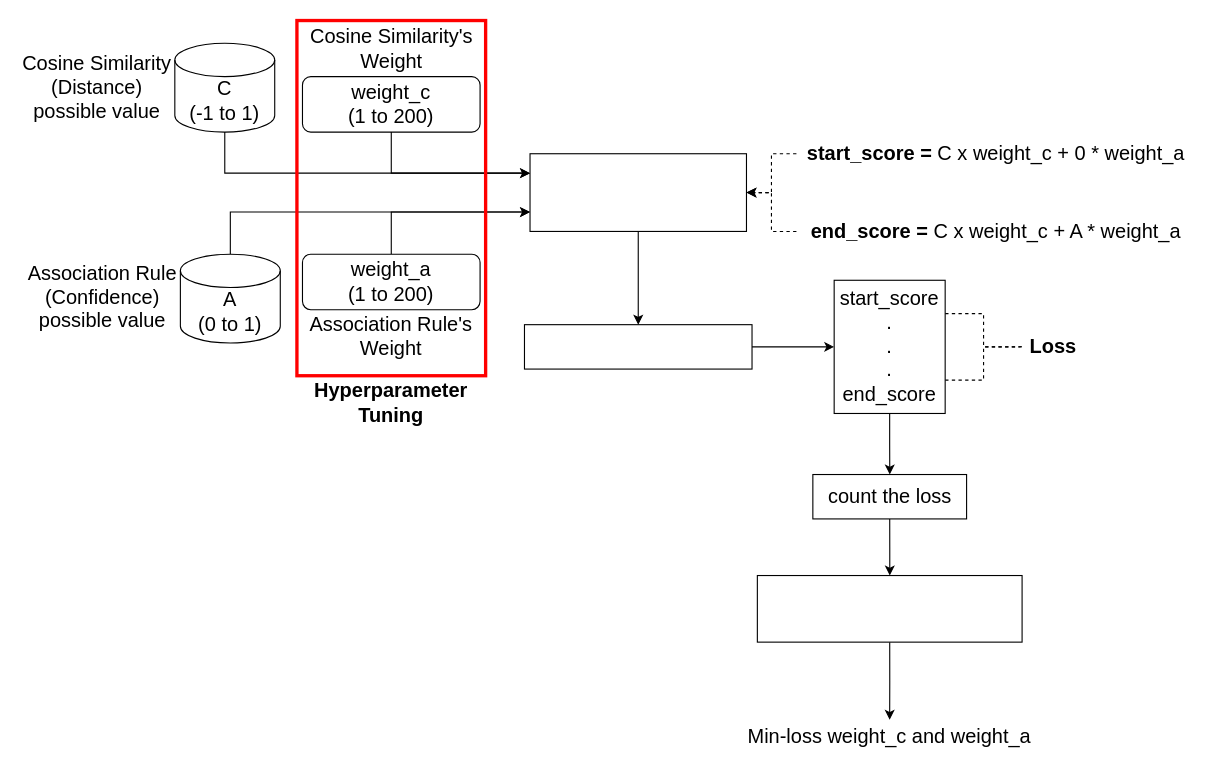
The diagram is 1214 pixels wide and 773 high, and some of its shapes have lost their labels. The box of each missing label's shape, as (x1, y1, x2, y2) in pixels:
Compute all start_score-end_score pairs: (529, 153, 746, 231)
Minimize loss with weight_c and weight_a: (756, 574, 1022, 642)
Store in array and sort: (523, 324, 752, 369)
